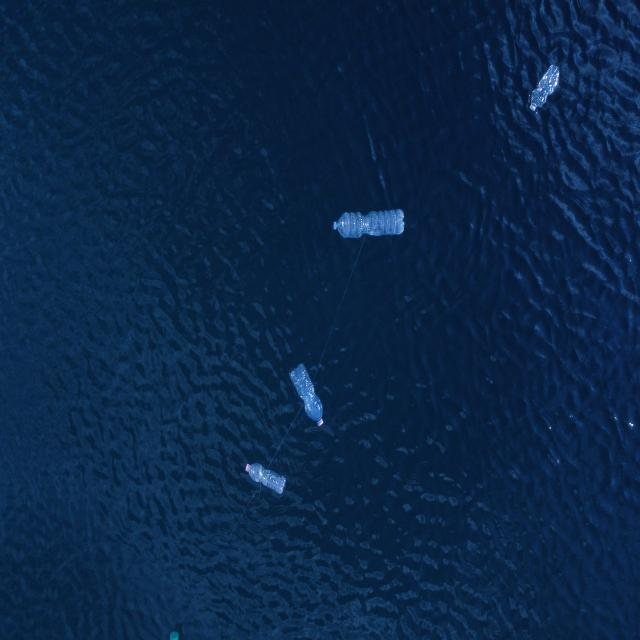bottles: (285, 350, 333, 433), (327, 200, 410, 247), (520, 53, 568, 119), (238, 456, 294, 502), (439, 514, 441, 514)
